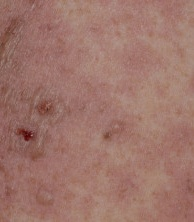SJS-TEN: (0, 0, 143, 222)
